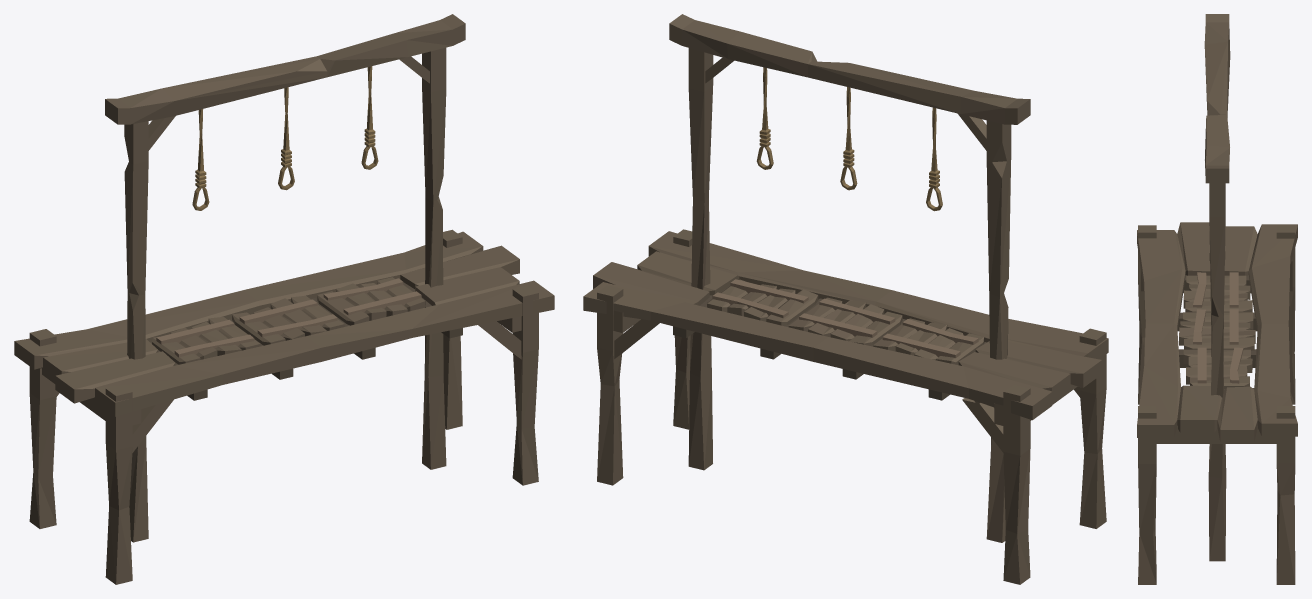
The model's file is SM_Prop_Gallows_01.glb.
3 views of the same model, side by side, from view 1: azimuth 30°, elevation 25°; view 2: azimuth 150°, elevation 25°; view 3: azimuth 270°, elevation 25° (orthographic). The views are drawn at different scales.
Visible parts, largest first — view 1: SM_Prop_Gallows_01_part00, SM_Prop_Gallows_01_part02, SM_Prop_Gallows_01_part01, SM_Prop_Gallows_01_part03; view 2: SM_Prop_Gallows_01_part00, SM_Prop_Gallows_01_part02, SM_Prop_Gallows_01_part01, SM_Prop_Gallows_01_part03; view 3: SM_Prop_Gallows_01_part00, SM_Prop_Gallows_01_part02, SM_Prop_Gallows_01_part01, SM_Prop_Gallows_01_part03.
Part boxes in pixels (bbox=[...]): SM_Prop_Gallows_01_part00: bbox=[14, 14, 554, 584]; SM_Prop_Gallows_01_part02: bbox=[232, 295, 344, 345]; SM_Prop_Gallows_01_part01: bbox=[317, 277, 425, 325]; SM_Prop_Gallows_01_part03: bbox=[152, 317, 260, 364]; SM_Prop_Gallows_01_part00: bbox=[583, 14, 1108, 584]; SM_Prop_Gallows_01_part02: bbox=[788, 297, 902, 345]; SM_Prop_Gallows_01_part01: bbox=[707, 279, 818, 326]; SM_Prop_Gallows_01_part03: bbox=[873, 318, 983, 364]; SM_Prop_Gallows_01_part00: bbox=[1137, 14, 1297, 584]; SM_Prop_Gallows_01_part02: bbox=[1179, 309, 1255, 350]; SM_Prop_Gallows_01_part01: bbox=[1183, 347, 1252, 388]; SM_Prop_Gallows_01_part03: bbox=[1183, 272, 1252, 312].
Size of the model in its own units: 6.04 by 5.43 by 1.98.
1 material, 1 textured.
